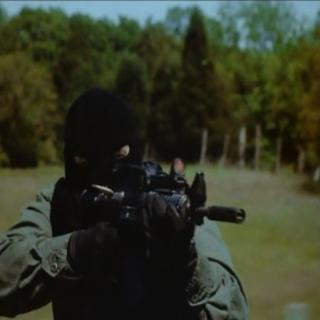gun: (50, 160, 242, 290)
